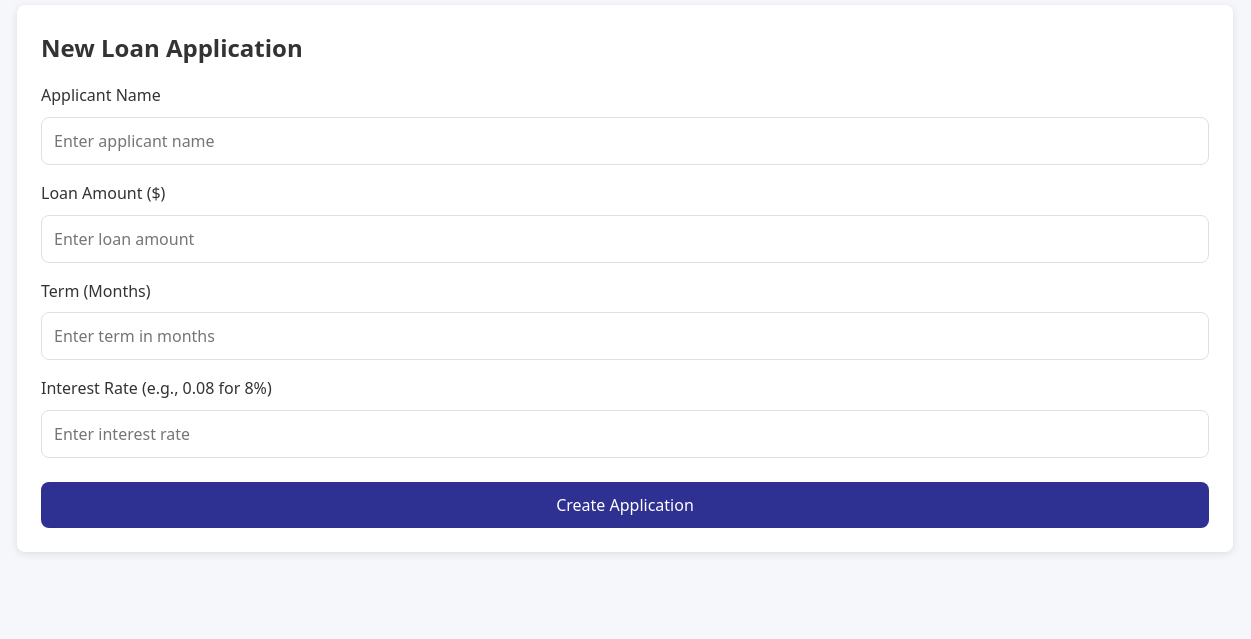
Test case: LoanForm › shows error for empty applicant name
The width and height of the screenshot is (1251, 639).
Type "50000" into the number field with id "amount".
click(625, 239); type("50000")  # box [41,215,1209,263]
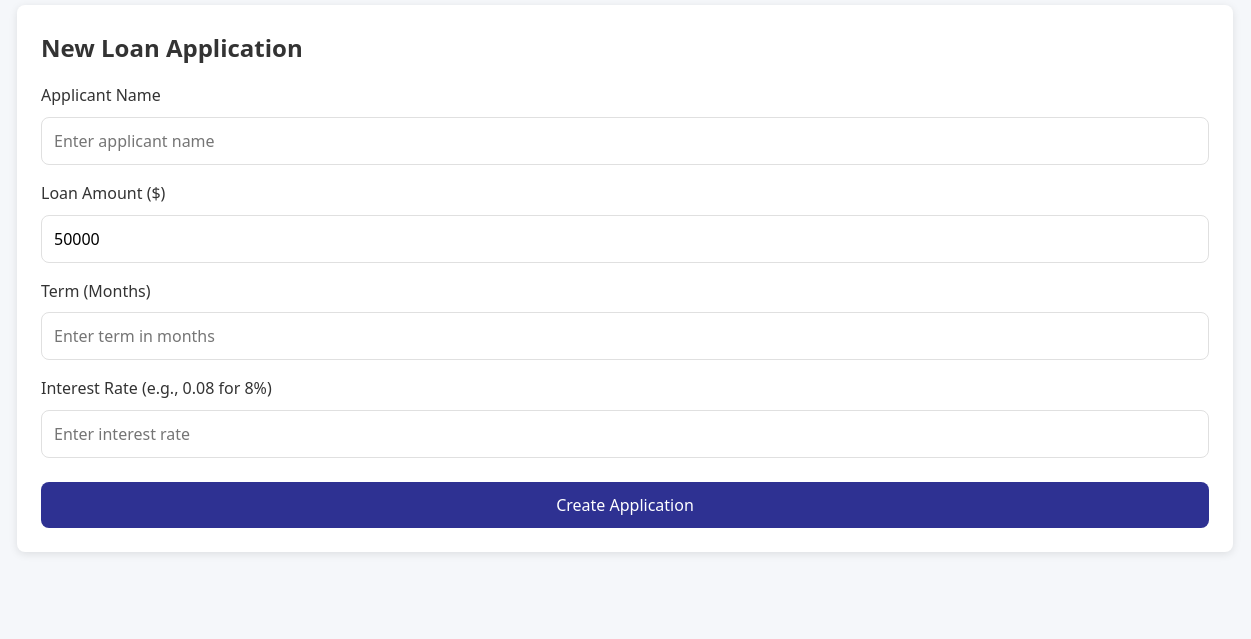
Type "24" into the number field with id "termMonths".
click(625, 336); type("24")  # box [41,312,1209,360]
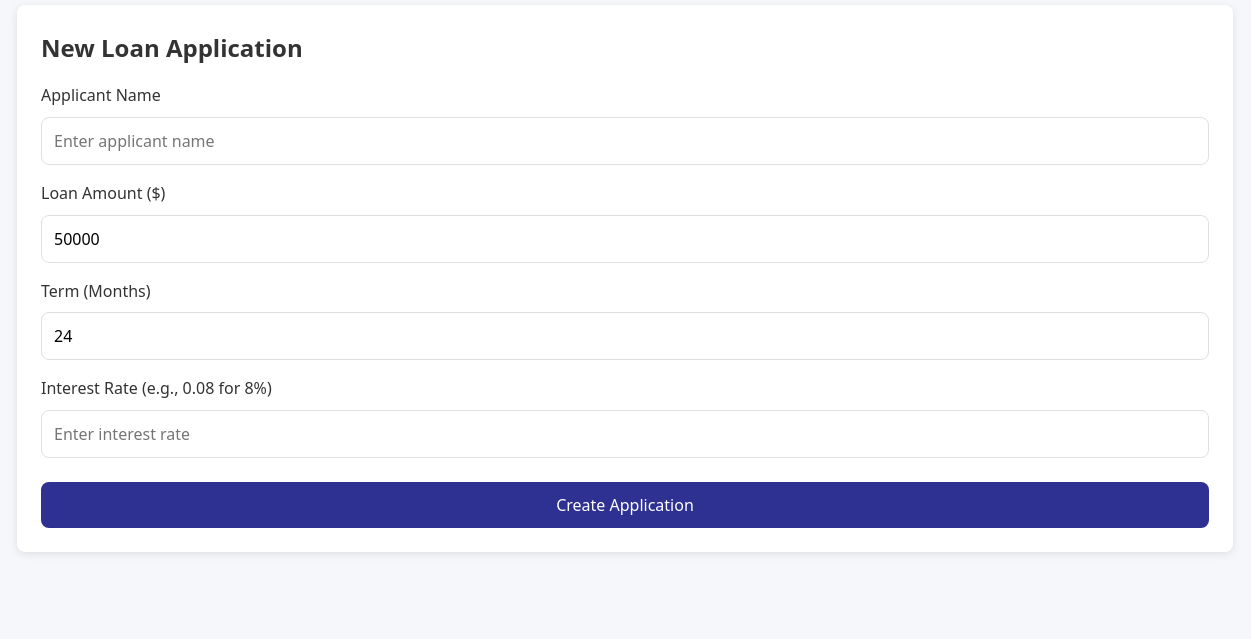
Type "0.08" into the number field with id "interestRate".
click(625, 434); type("0.08")  # box [41,410,1209,458]
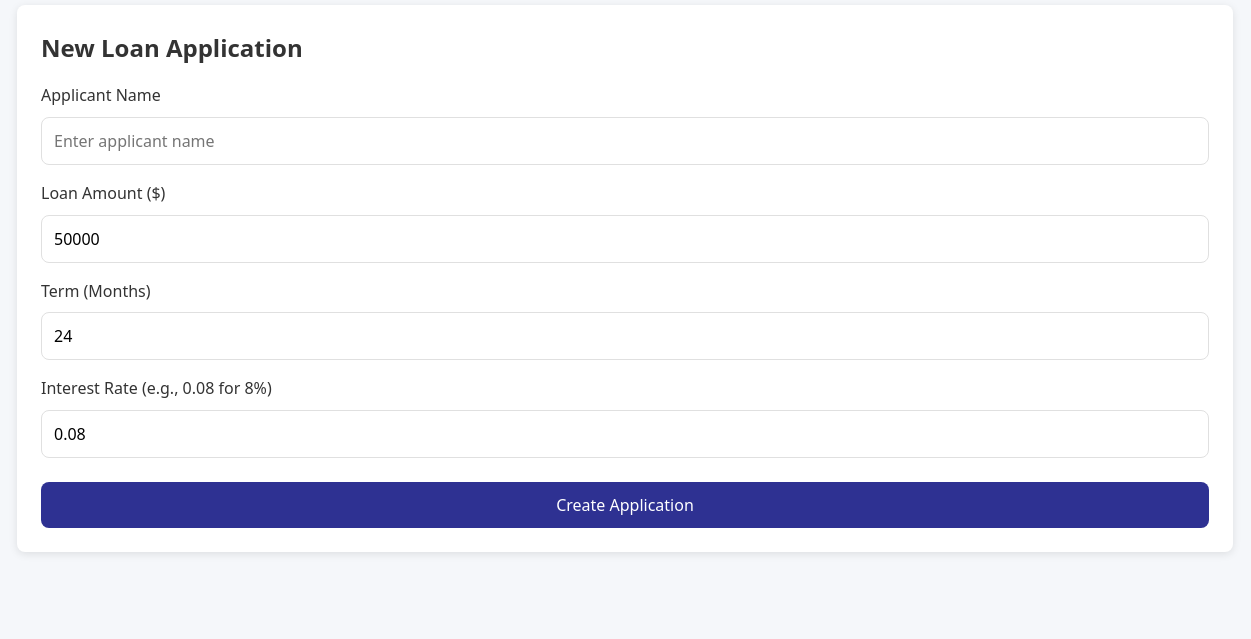
Submit the form
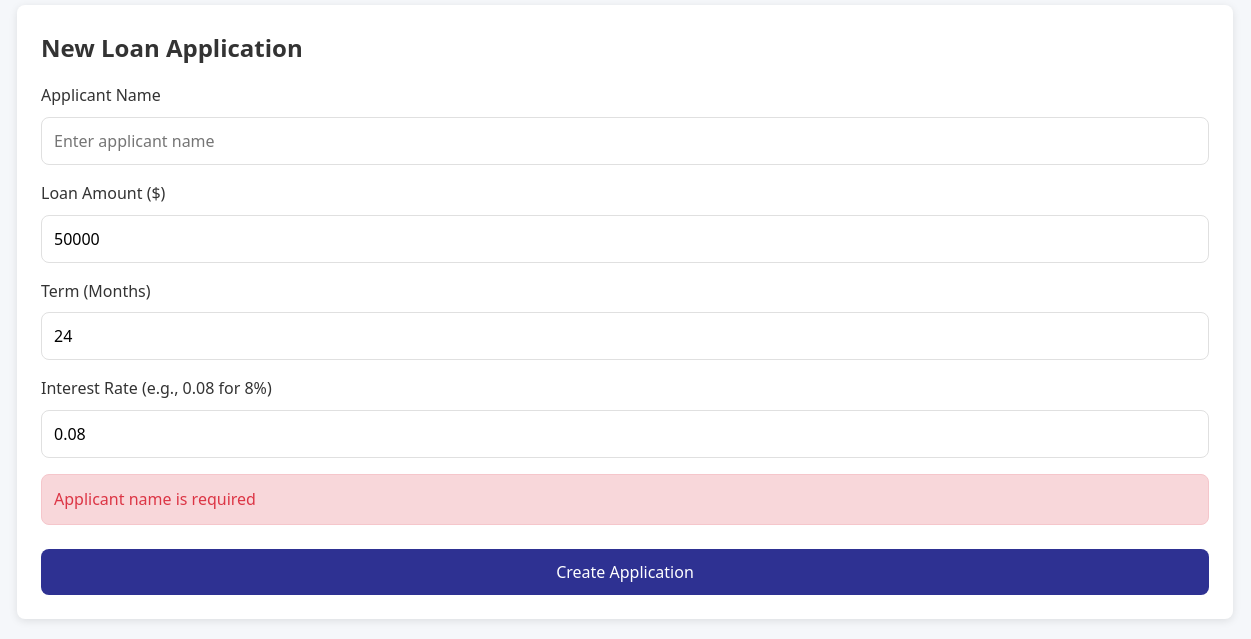
Expected: the text "Applicant name is required" is shown, [41,474,1209,525]
Expected: the text with class "error-message" reads "Applicant name is required", [54,488,256,510]
